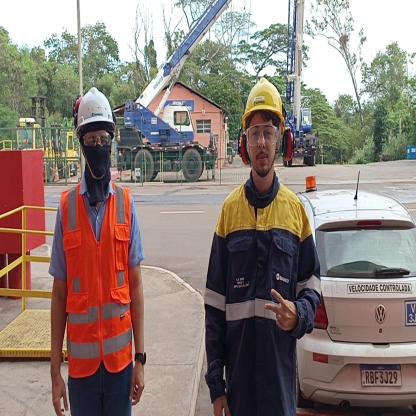Balaclava: (77, 126, 116, 184)
C_eletrica: (207, 192, 322, 404)
Capacete: (235, 74, 288, 115), (70, 88, 117, 127)
colete: (63, 189, 134, 373)
